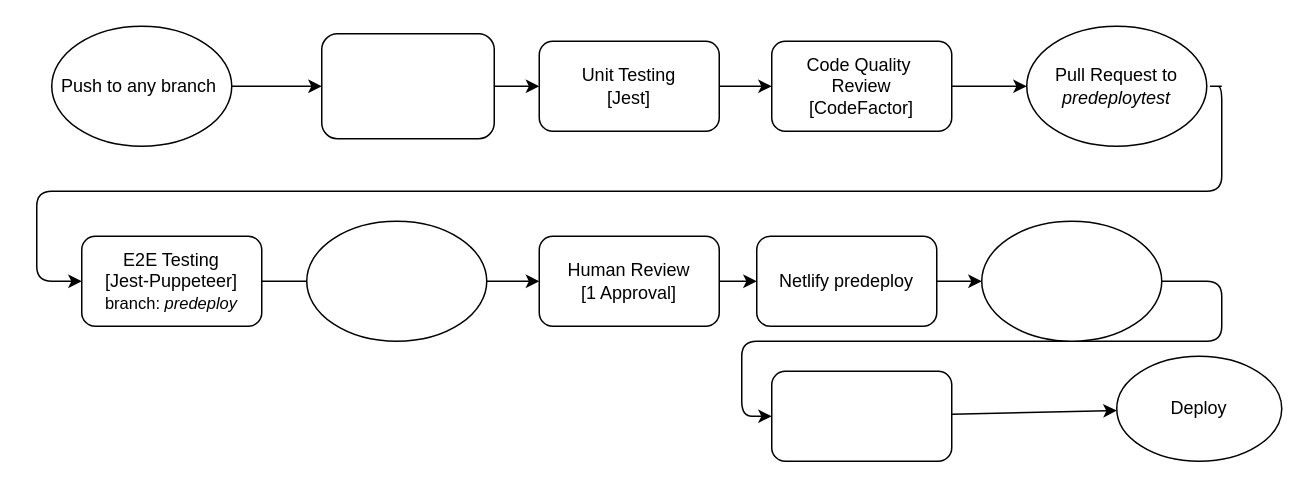
The diagram is 1308 pixels wide and 488 high, and some of its shapes have lost their labels. The shapes that lost their labels are listed below. From the top down, each one's centre as x and y in pixels, then its label:
At pixel 407 85: "Linting [HTML: HTMLHint JS: ESLint CSS: stylelint]".
At pixel 396 280: "Pull Request to main".
At pixel 1071 280: "Merge".
At pixel 861 415: "Documentation [JSDoc]".
